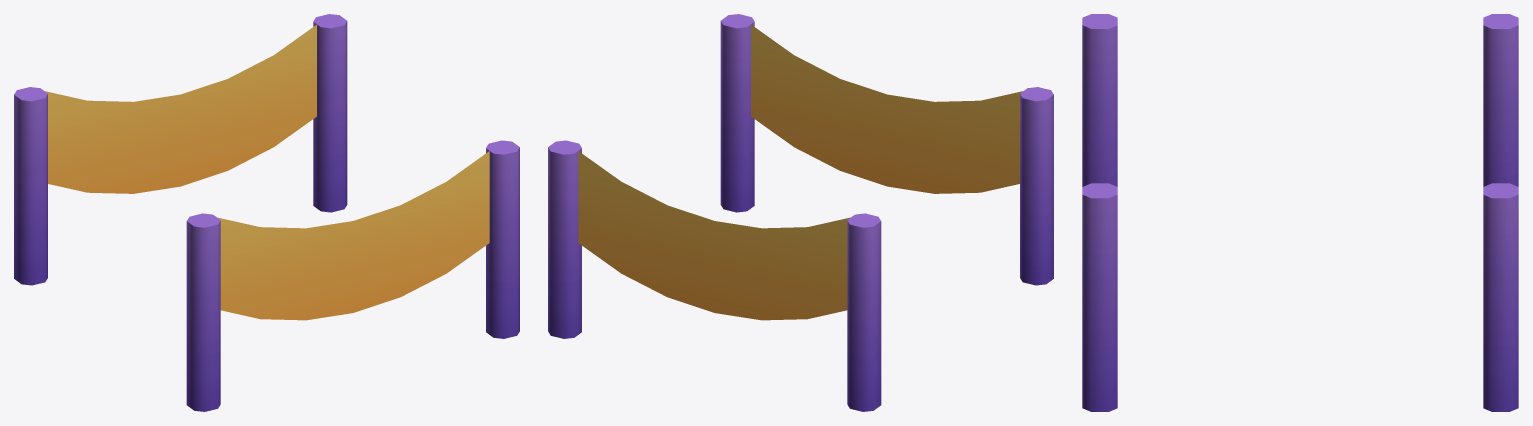
Rendered from kenney-marble-banner-hanging-double.glb.
3 renders of one model, left to right at view 1: azimuth 30°, elevation 25°; view 2: azimuth 150°, elevation 25°; view 3: azimuth 270°, elevation 25°, orthographic. The views are drawn at different scales.
Visible parts, largest first — view 1: banner-hanging-double; view 2: banner-hanging-double; view 3: banner-hanging-double.
Boxes of the visible parts, left/top/right/bottom form: banner-hanging-double: left=14, top=14, right=519, bottom=411; banner-hanging-double: left=548, top=14, right=1053, bottom=411; banner-hanging-double: left=1082, top=14, right=1518, bottom=411.
Bounding box in the file's own units: 0.925 × 0.5001 × 0.925.
Materials: 1 (1 with a texture image).
